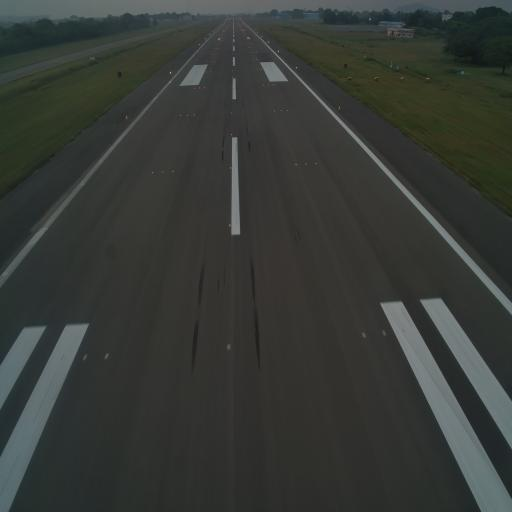off: (225, 341, 231, 354)
on: (314, 160, 320, 167), (228, 220, 232, 230), (150, 168, 154, 177), (171, 168, 176, 175), (294, 162, 298, 170), (303, 160, 308, 166), (229, 164, 232, 172), (161, 169, 165, 175), (229, 132, 233, 137)
